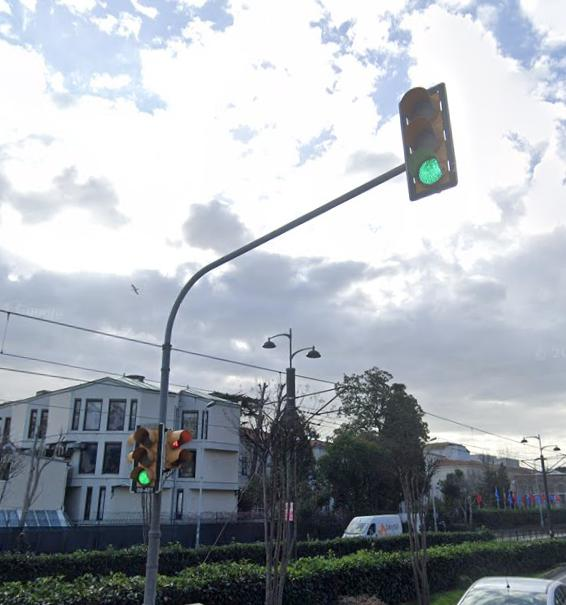greenlight: (400, 90, 452, 185), (132, 425, 157, 484)
